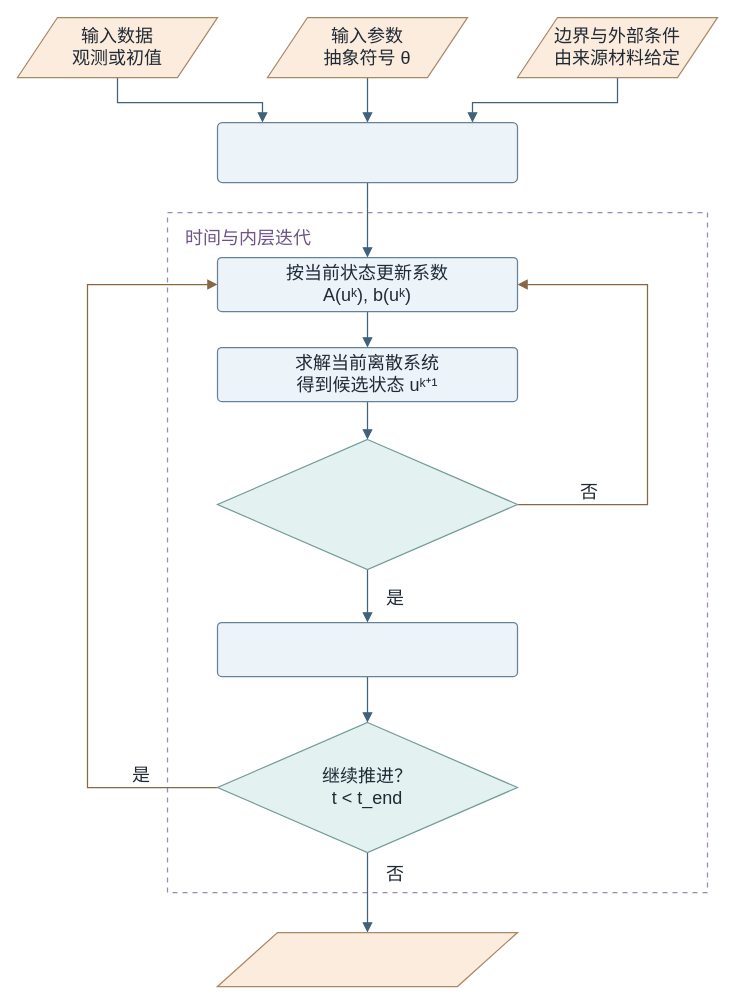
Some shapes in this 736 by 1005 pixel diagram are drawn without their labels. The centre of each missing label's shape, as x and y in pixels:
"接受候选状态 推进时间与状态" belongs at pixel 367 649.
"离散网格与状态初始化" belongs at pixel 367 152.
"输出轨迹与终止状态 供论文结果引用" belongs at pixel 367 959.
"迭代收敛？ ‖Δu‖ ≤ ε" belongs at pixel 367 504.
